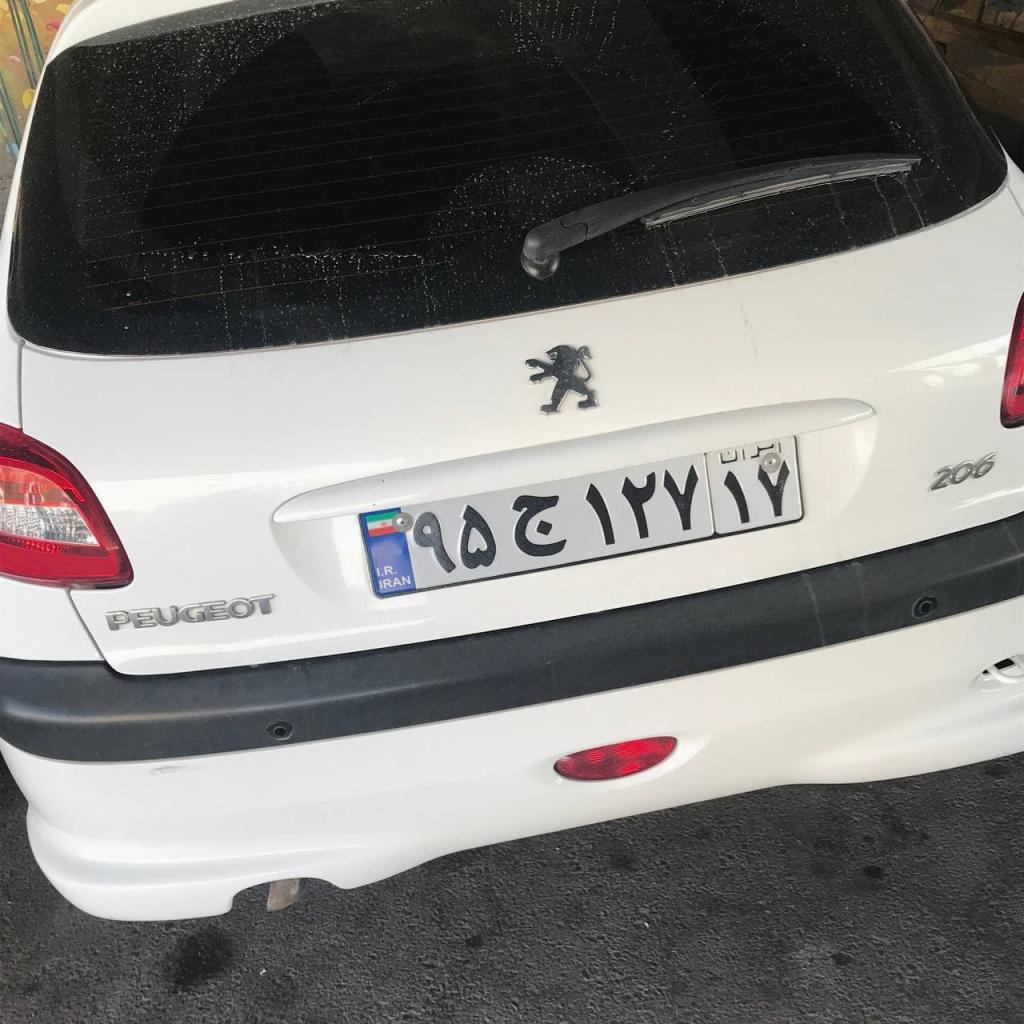Plates: (358, 434, 805, 599)
